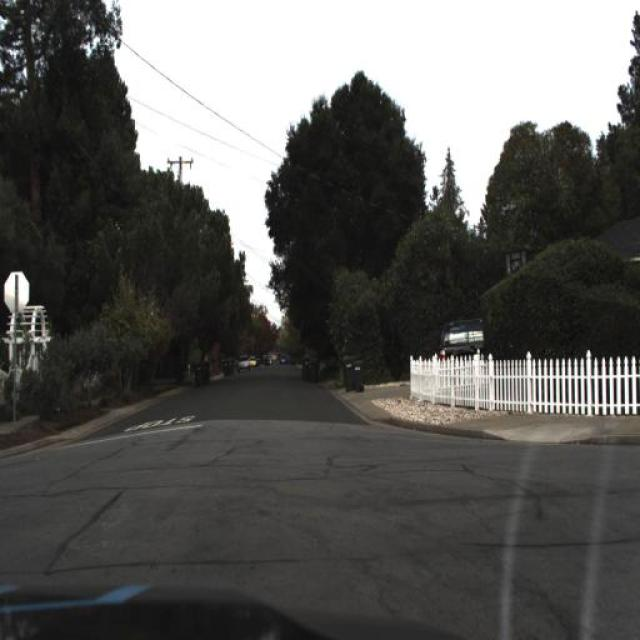car: (440, 315, 486, 364), (238, 355, 250, 371)
